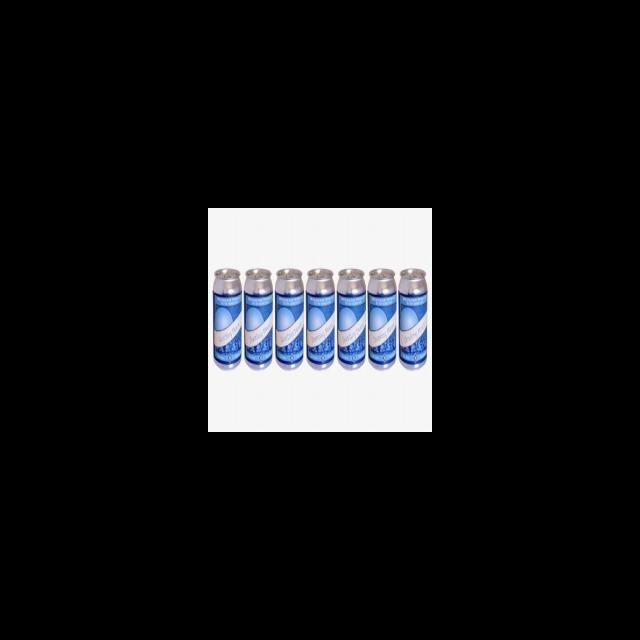metal: (334, 267, 370, 372), (273, 264, 306, 373), (396, 266, 428, 374), (212, 268, 244, 373), (368, 265, 397, 372), (246, 266, 273, 377), (307, 270, 335, 371)
